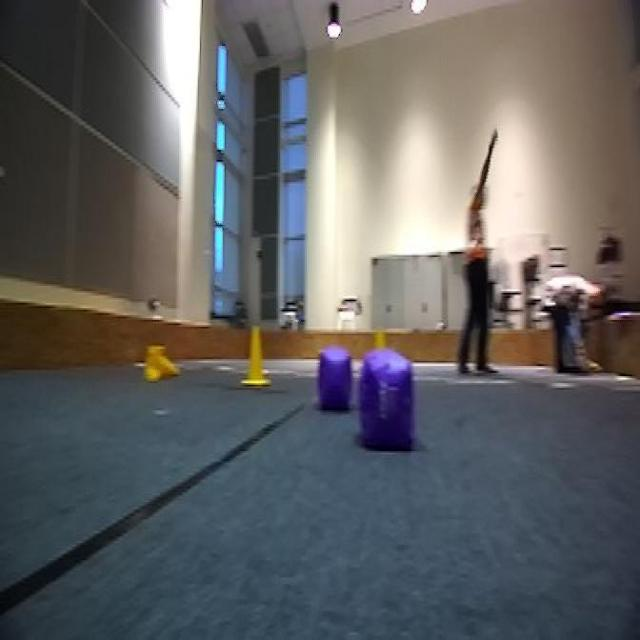frc_cone: (238, 325, 271, 385), (142, 341, 182, 382)
frc_cube: (363, 356, 414, 444), (318, 352, 352, 414)
